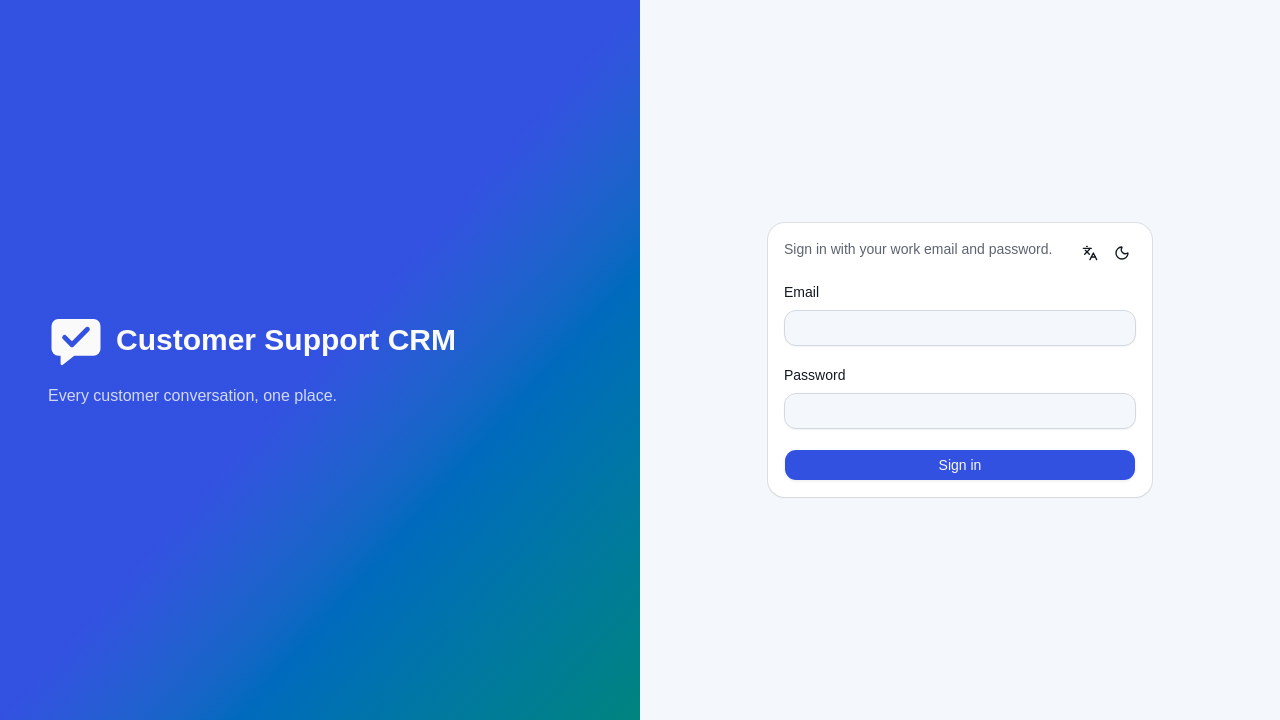
Test: Language switching (ar / en) › switching back to English sets <html dir="ltr" lang="en">
The image size is (1280, 720).
Expected: the form "Sign in" is shown, [784,283,1136,481]
Click the button named "العربية" at (1090, 253), box [1076,239,1104,267]
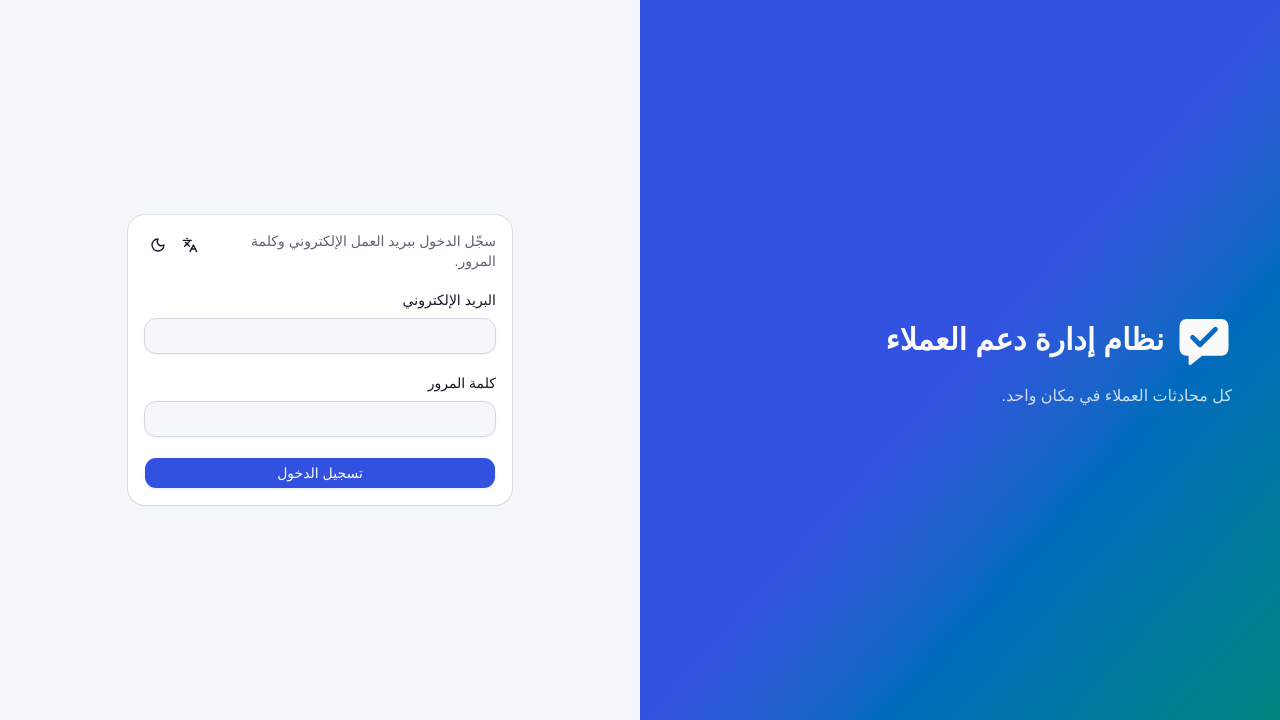
Expected: the form "تسجيل الدخول" is shown, [144,291,496,489]
Click the button named "English" at (190, 245), box [176,231,204,259]
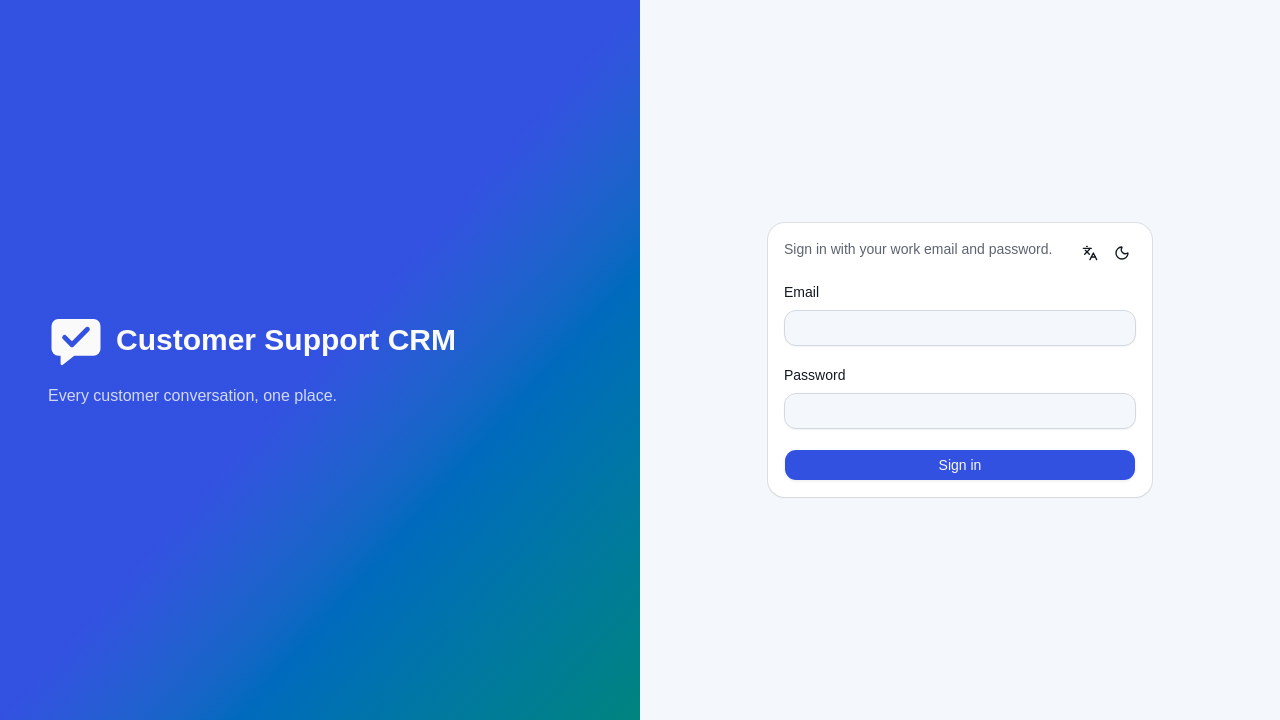
Expected: the form "Sign in" is shown, [784,283,1136,481]
